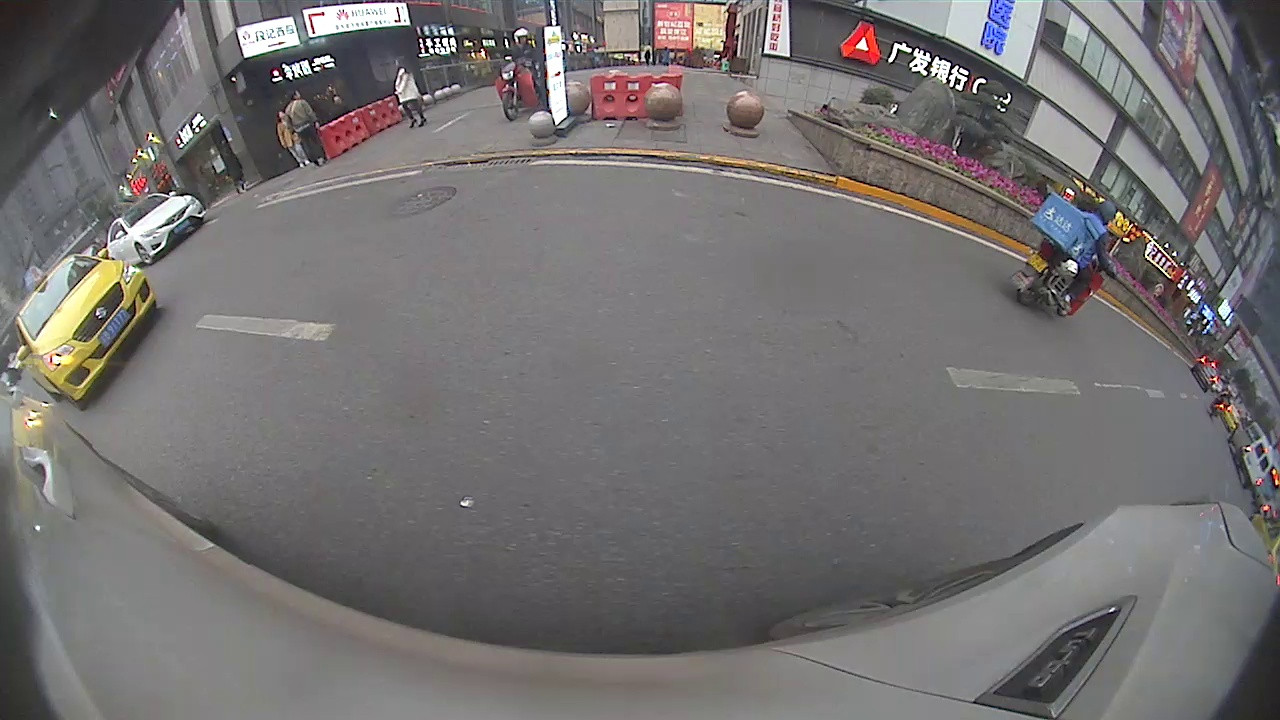car: (13, 253, 156, 408), (105, 194, 206, 268), (1226, 420, 1276, 492)
front: (505, 90, 521, 121), (134, 243, 152, 267)
person: (287, 92, 331, 168), (393, 57, 428, 127)
rider: (1009, 188, 1119, 322), (493, 26, 547, 123)
